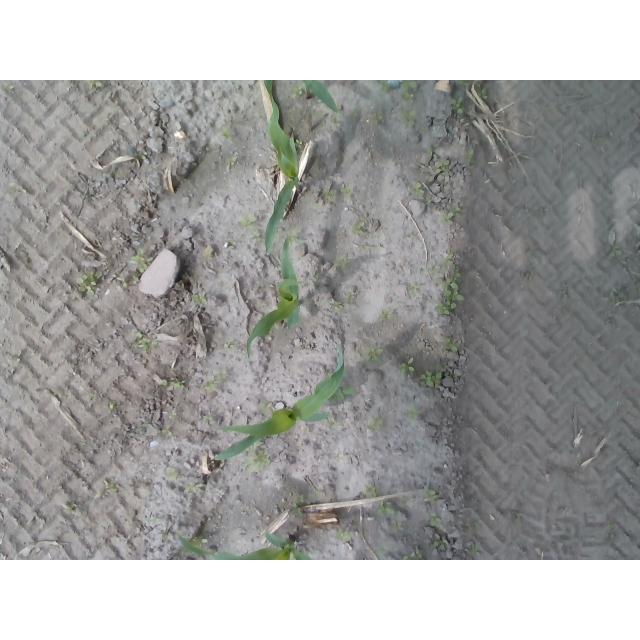Maize: (213, 342, 348, 462), (245, 234, 308, 355), (262, 80, 303, 253), (175, 530, 314, 560), (298, 80, 339, 112)
Weeds: (435, 252, 466, 316), (79, 271, 105, 296), (130, 247, 153, 273), (429, 144, 449, 173), (129, 331, 151, 354), (240, 214, 261, 237), (439, 205, 463, 225), (399, 80, 417, 106), (245, 454, 271, 472), (419, 368, 441, 385), (365, 344, 386, 361), (401, 108, 418, 128), (448, 95, 464, 116), (161, 381, 186, 392), (400, 356, 415, 374), (424, 486, 439, 504), (334, 388, 354, 401), (604, 246, 624, 259), (185, 481, 205, 494), (378, 501, 395, 516), (102, 479, 119, 494), (434, 533, 447, 552), (375, 81, 390, 96), (103, 401, 118, 416), (193, 290, 207, 306), (369, 110, 383, 126), (402, 549, 422, 560), (289, 228, 304, 242), (351, 223, 366, 237), (467, 542, 481, 557), (467, 142, 477, 162), (476, 84, 488, 100), (192, 537, 209, 548), (370, 417, 385, 429), (362, 484, 377, 496), (447, 336, 457, 353), (412, 182, 425, 195), (291, 493, 304, 506), (429, 513, 441, 527), (261, 400, 271, 416), (87, 80, 103, 90), (338, 531, 354, 541), (224, 338, 236, 351), (133, 150, 148, 160), (222, 128, 233, 141), (293, 83, 303, 97), (207, 381, 218, 392), (226, 157, 238, 167), (333, 113, 343, 124), (407, 407, 418, 417), (325, 191, 336, 201), (203, 413, 214, 423), (381, 310, 393, 319), (216, 369, 226, 379), (294, 139, 303, 150), (313, 271, 320, 285), (339, 187, 353, 194), (458, 80, 470, 88), (328, 417, 337, 427), (333, 302, 343, 310), (88, 393, 96, 401)
